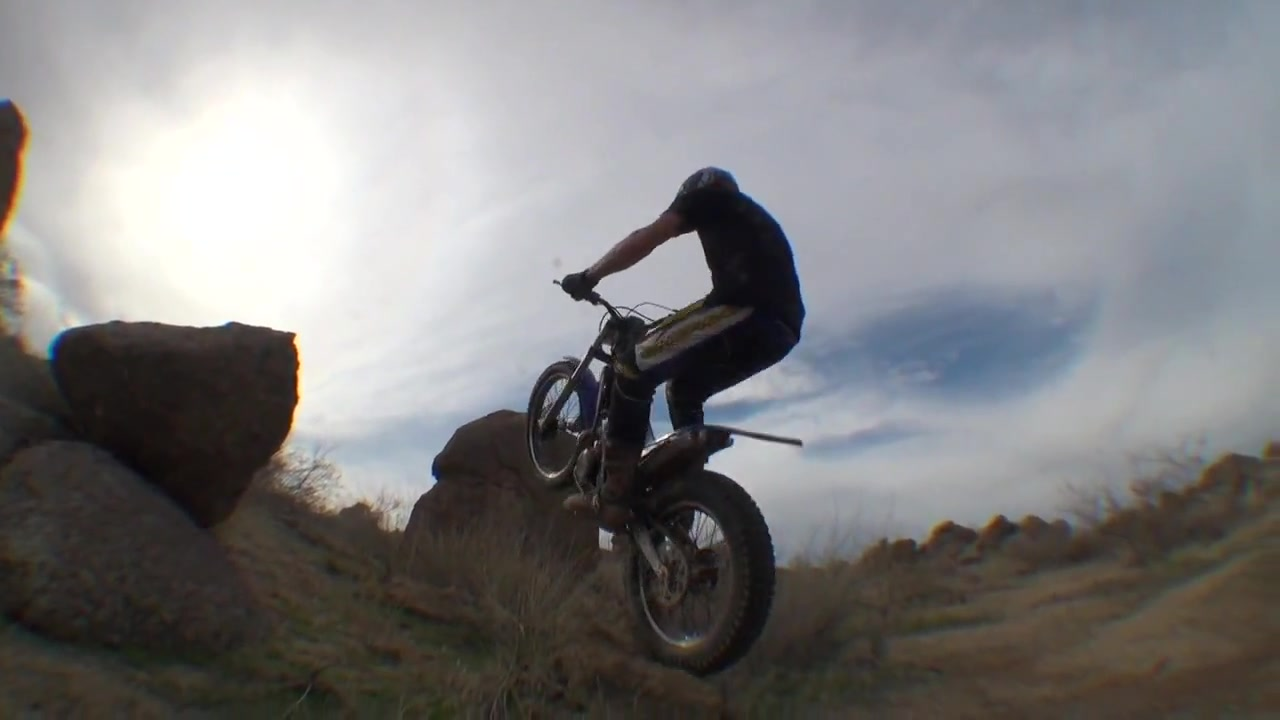motorbike: (523, 274, 810, 679)
